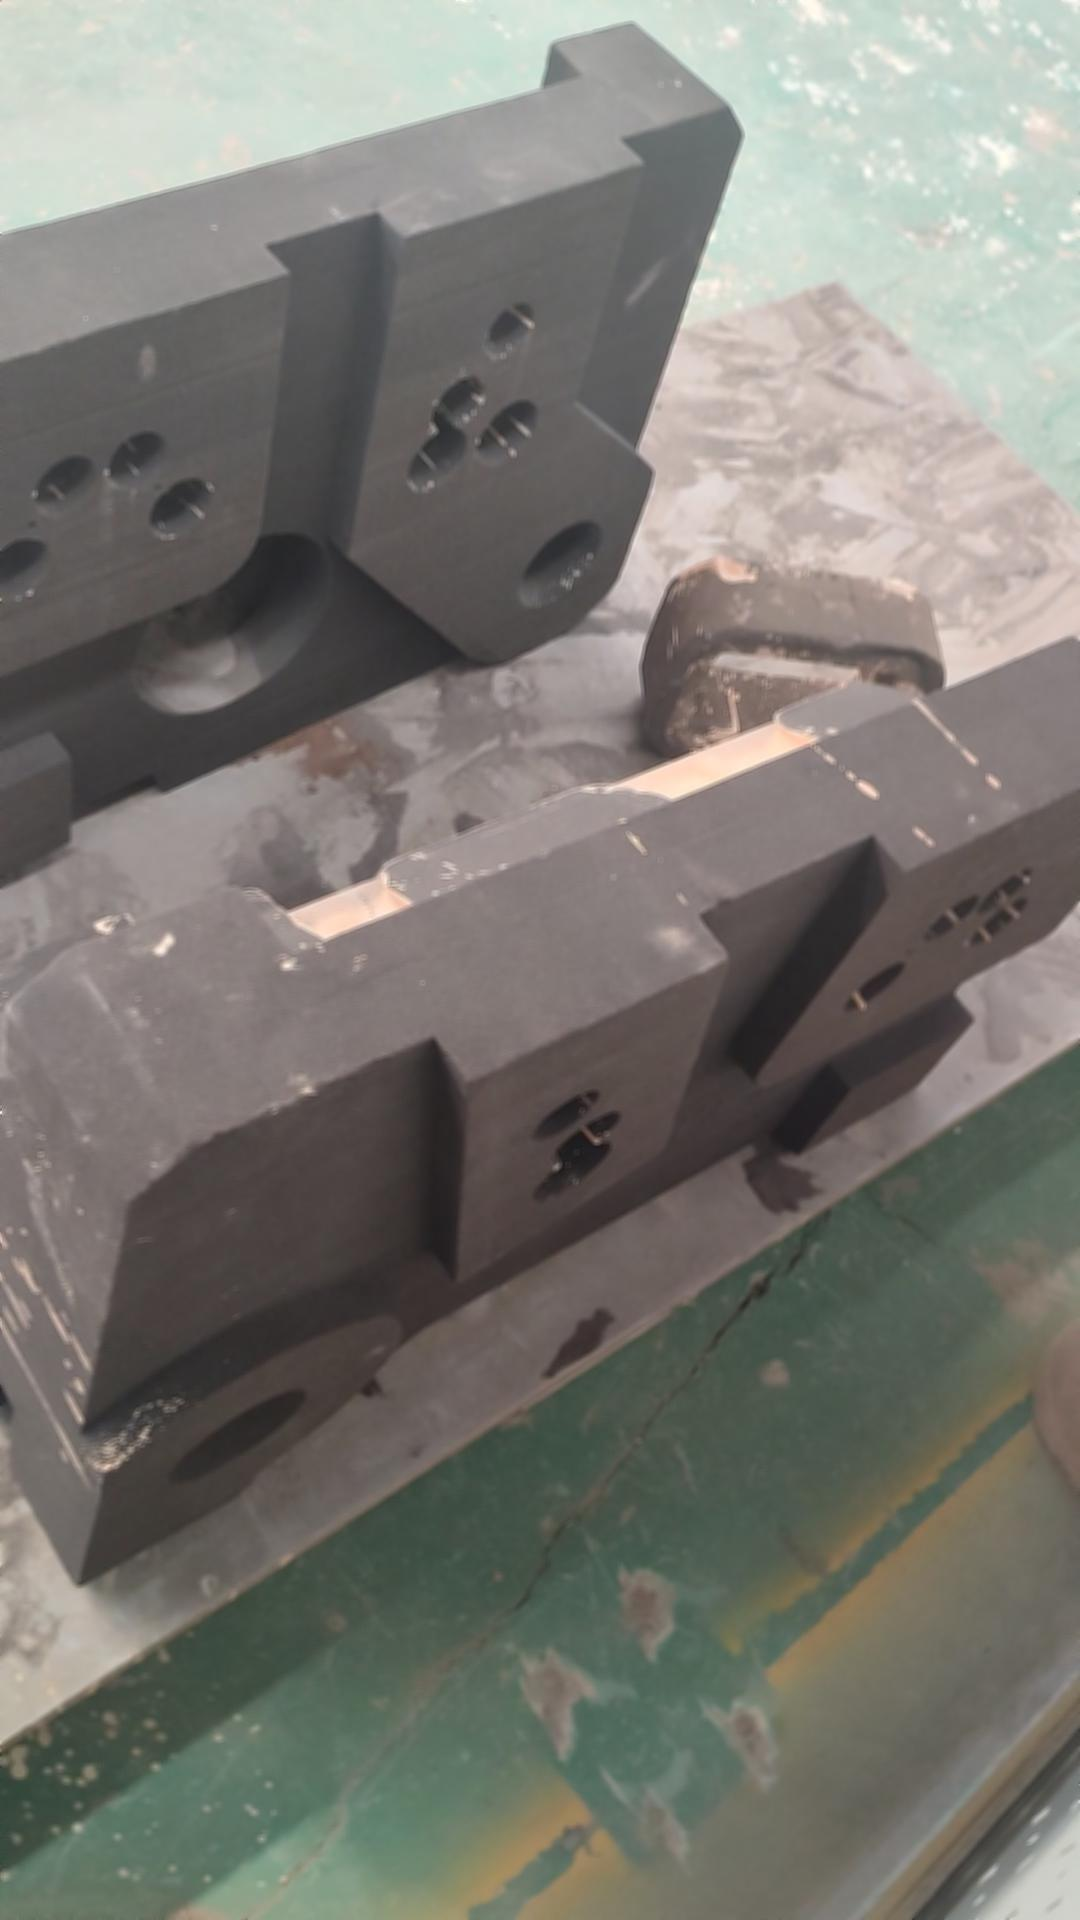pouring hole: (167, 1386, 309, 1484), (516, 520, 604, 609)
